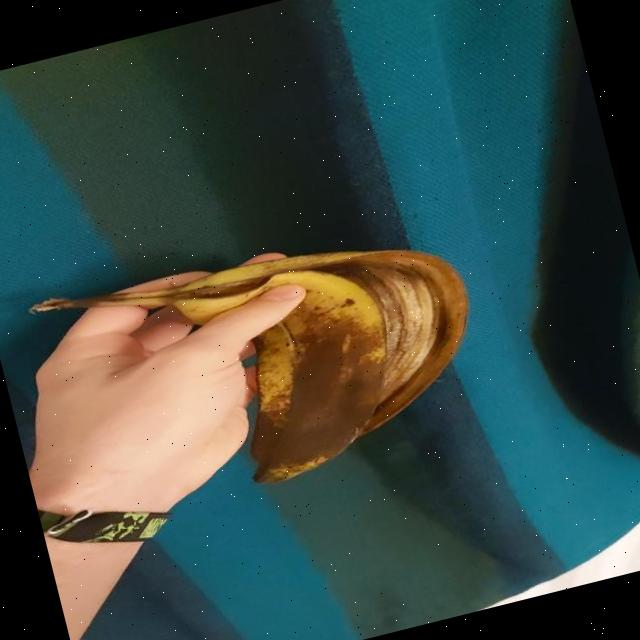banana-peel: (24, 196, 500, 531)
